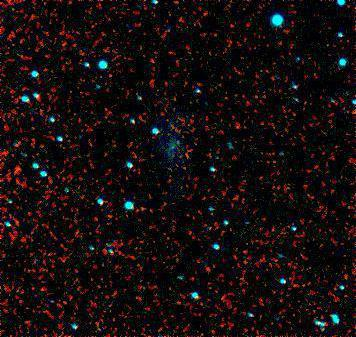star: (164, 131, 194, 161)
